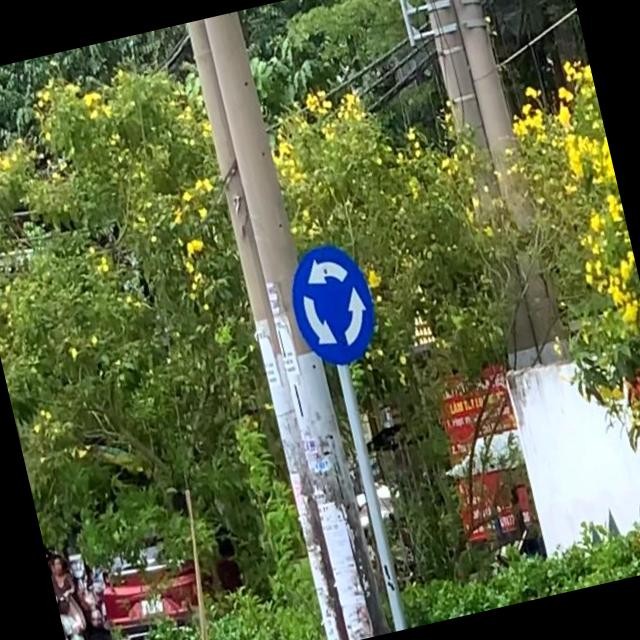R-303: (282, 235, 385, 372)
